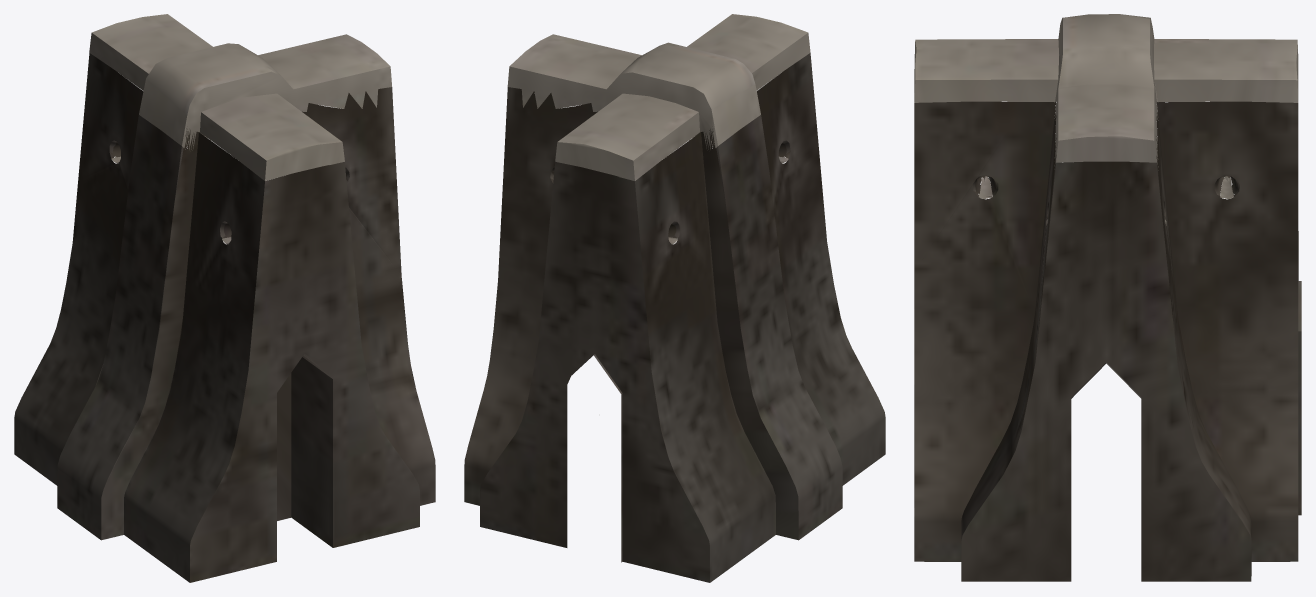
File: stone-wall-nes.glb
3 renders of one model, left to right at view 1: azimuth 30°, elevation 25°; view 2: azimuth 150°, elevation 25°; view 3: azimuth 270°, elevation 25°, orthographic. The views are drawn at different scales.
Visible parts, largest first — view 1: body; view 2: body; view 3: body.
Boxes of the visible parts, bbox=[...] form: body: bbox=[14, 14, 435, 582]; body: bbox=[464, 14, 885, 582]; body: bbox=[914, 14, 1301, 581].
Size of the model in its own units: 0.9457 by 1.32 by 0.992.
1 material, 1 textured.
